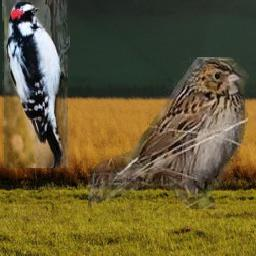Sparrow: (89, 57, 250, 209)
Woodpecker: (2, 0, 70, 168)
